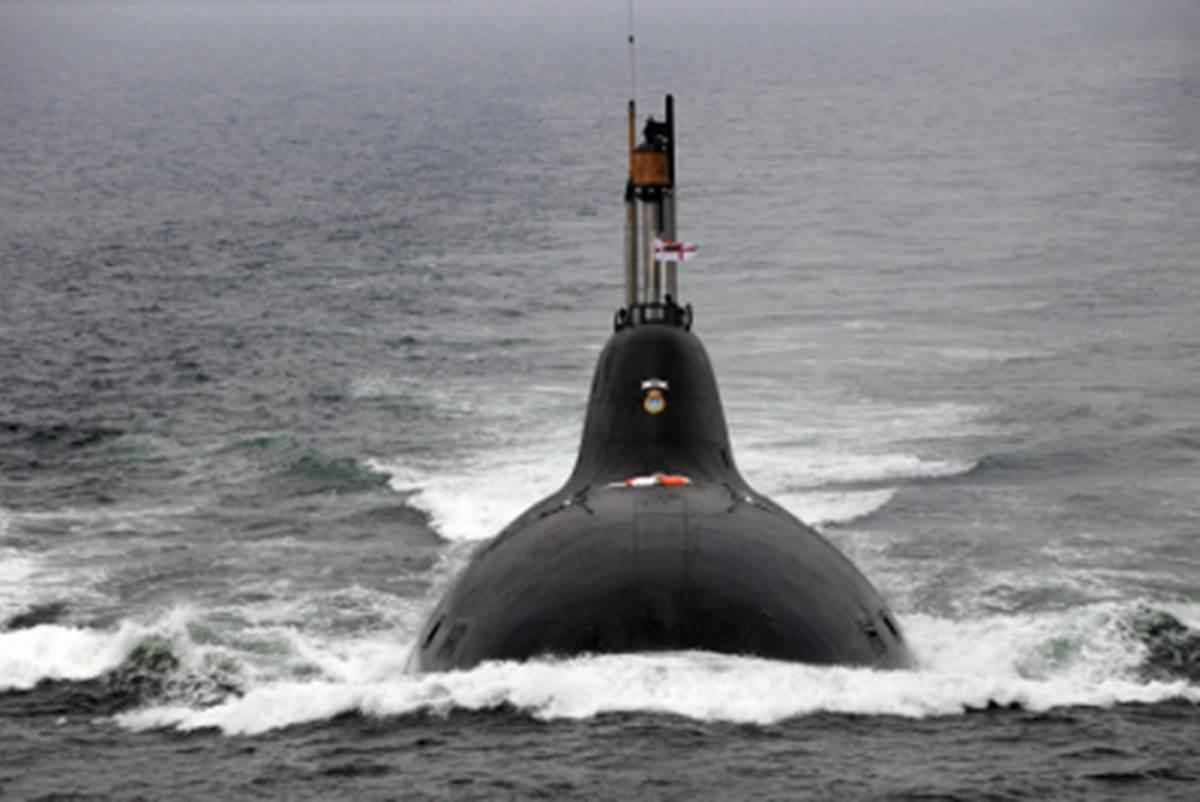Submarine: (296, 0, 1014, 792)
